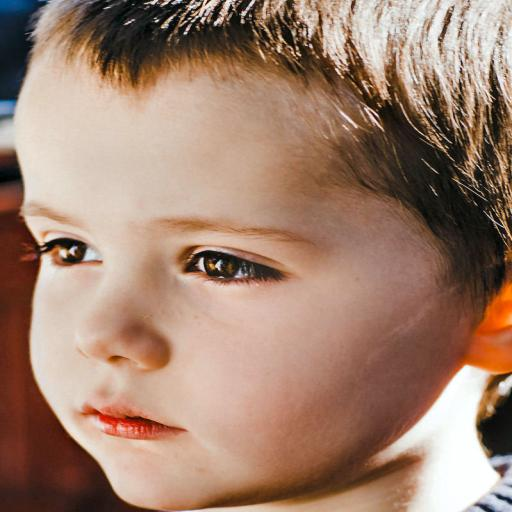Autism: (8, 4, 512, 512)
